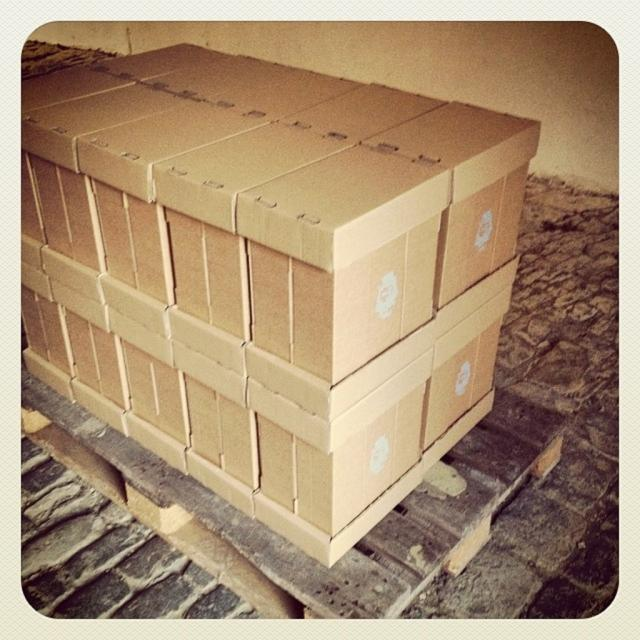Box: (21, 43, 542, 568)
